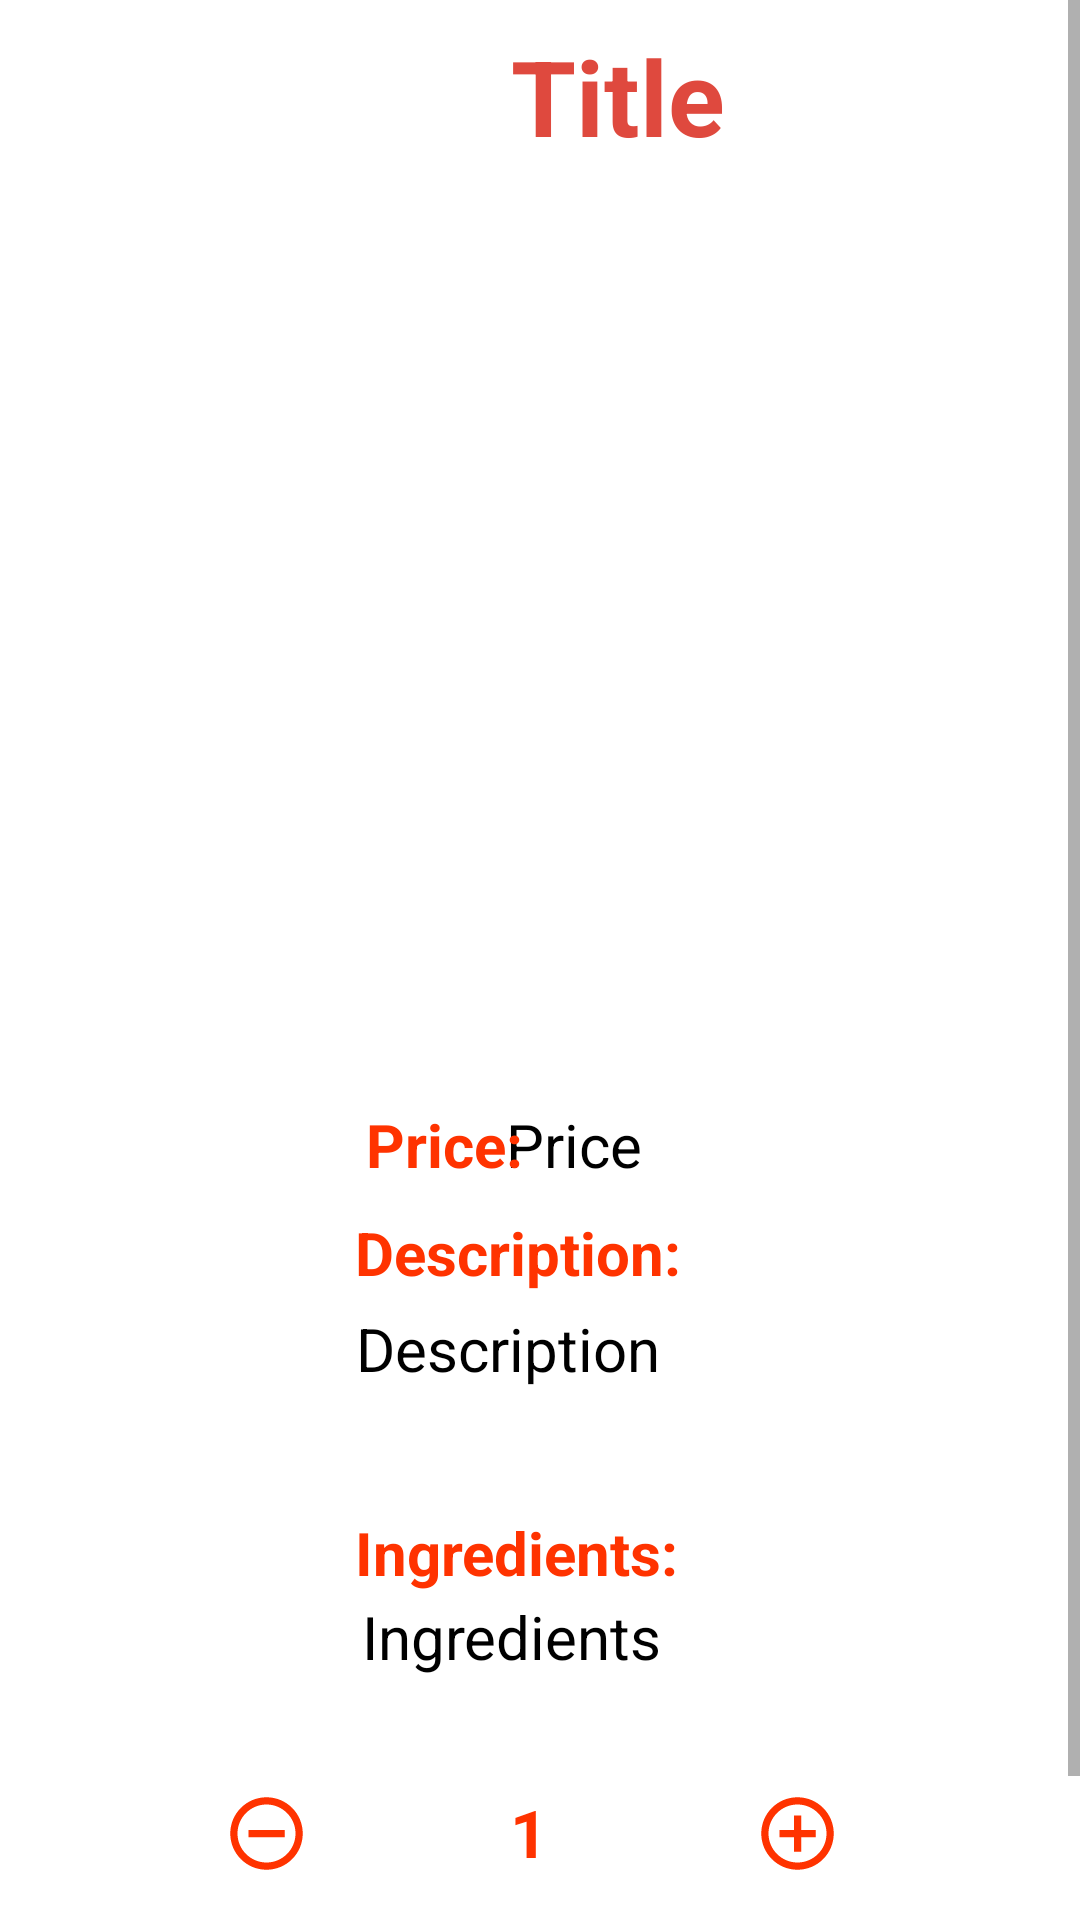

Screen size 1080w x 1920h. Icon name, then its center in pixels as point (x, y):
add circle: point (797, 1833)
remove circle: point (266, 1833)
